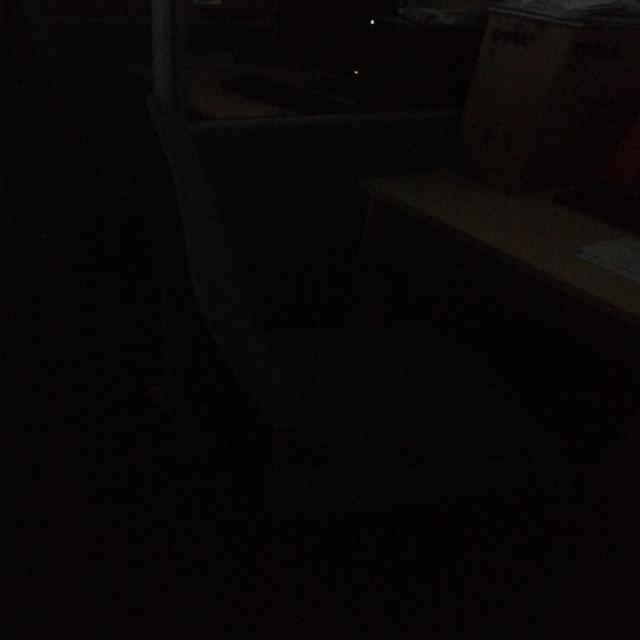Table: (327, 136, 640, 391)
chair: (56, 83, 541, 581)
